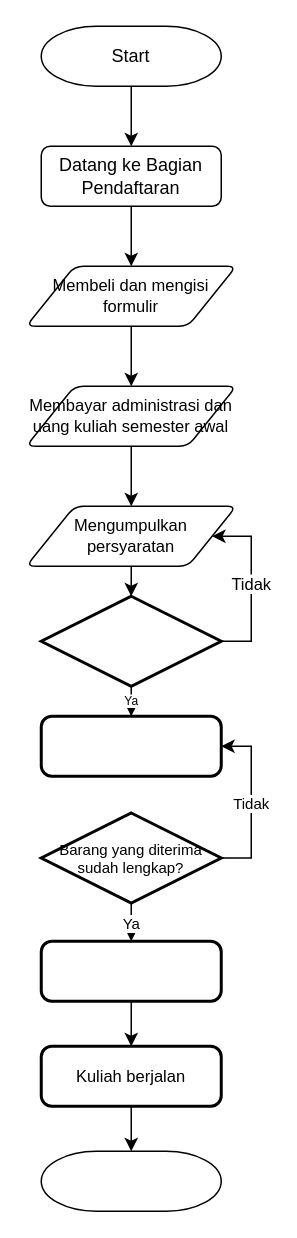
Some shapes in this 297 by 1238 pixel diagram are drawn without their labels. The shapes that lost their labels are listed below. From the top down, each one's centre as x and y in pixels, then its label:
point (130, 640): Apakah persyaratan lengkap?
point (130, 745): Menerima kartu mahasiswa, jas universitas, jadwal orientasi, dan kuliah
point (130, 970): Mengikuti orientasi
point (130, 1180): End
